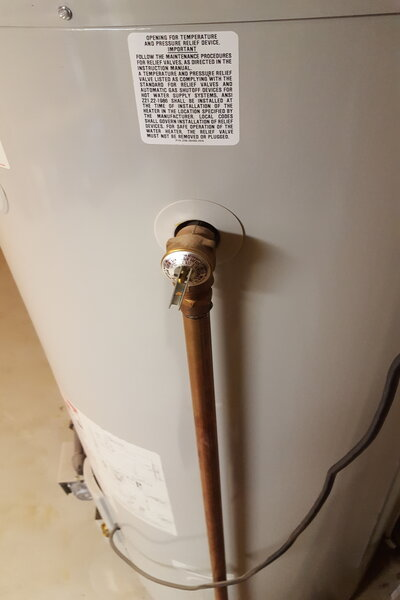valve: (161, 220, 222, 321)
